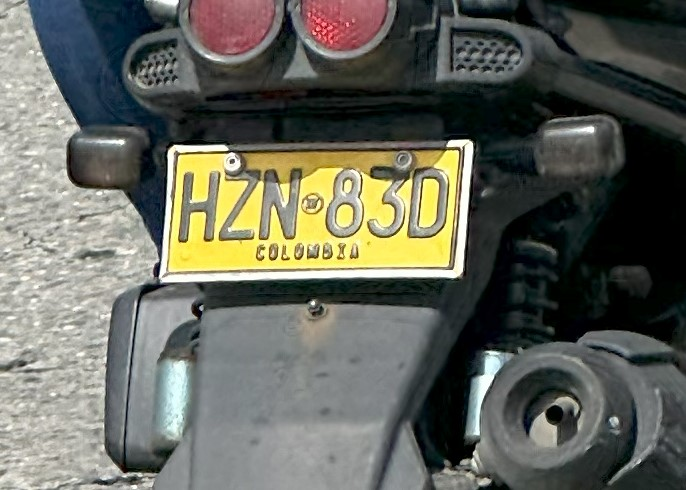number plate: (160, 140, 473, 281)
